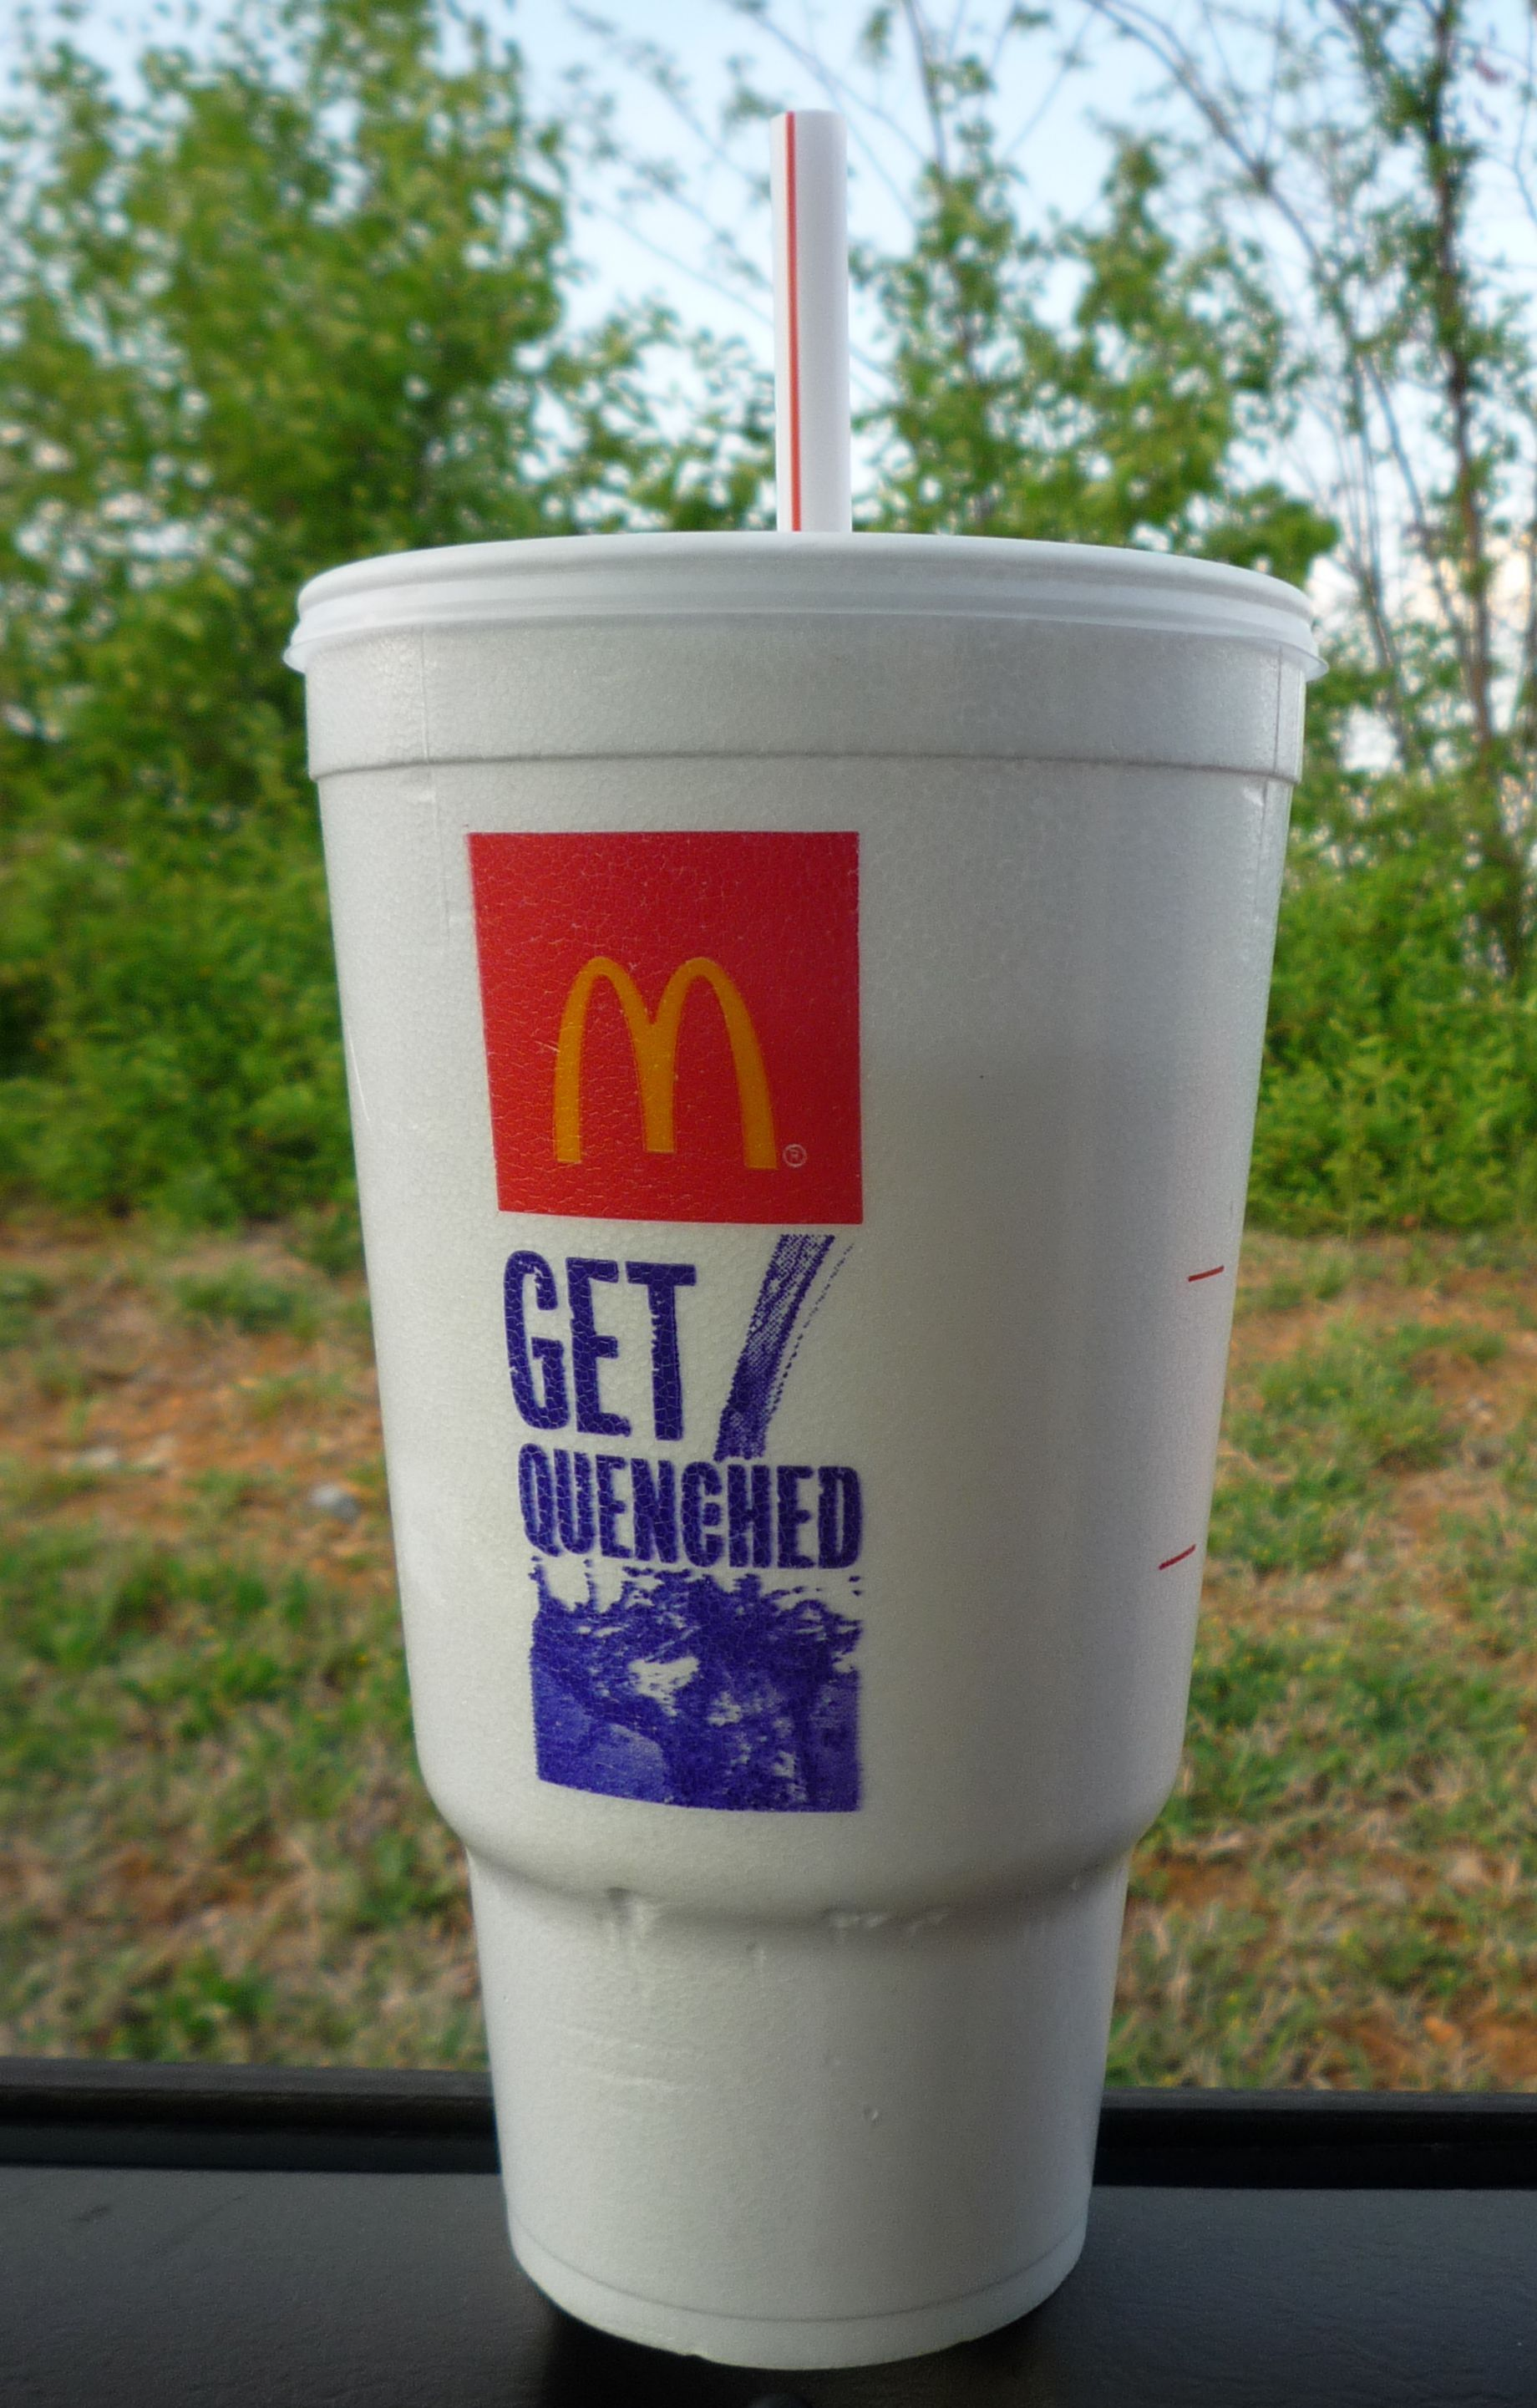Nonrec_Plastic: (193, 47, 1312, 2322)
